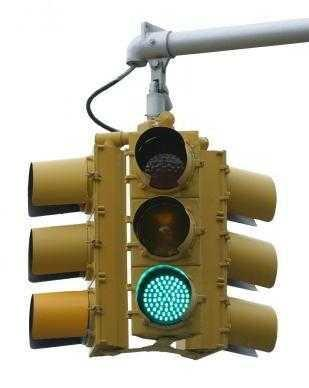2: (126, 128, 202, 334)
3: (132, 128, 197, 194), (130, 194, 196, 258)
4: (32, 136, 116, 352), (214, 144, 274, 360)
red traffic light: (128, 262, 200, 331)
